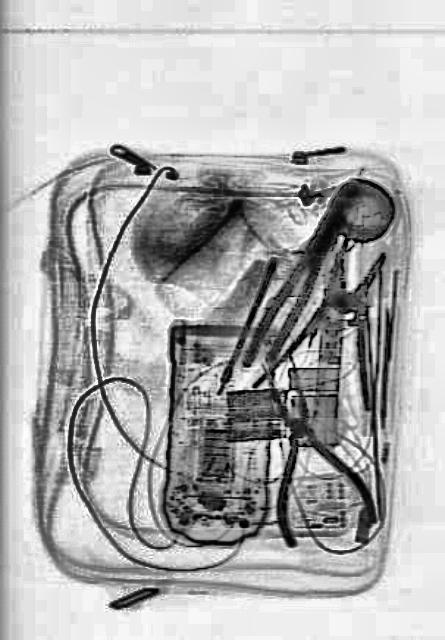Pliers: (250, 209, 414, 443), (233, 332, 378, 566), (239, 170, 363, 378)
